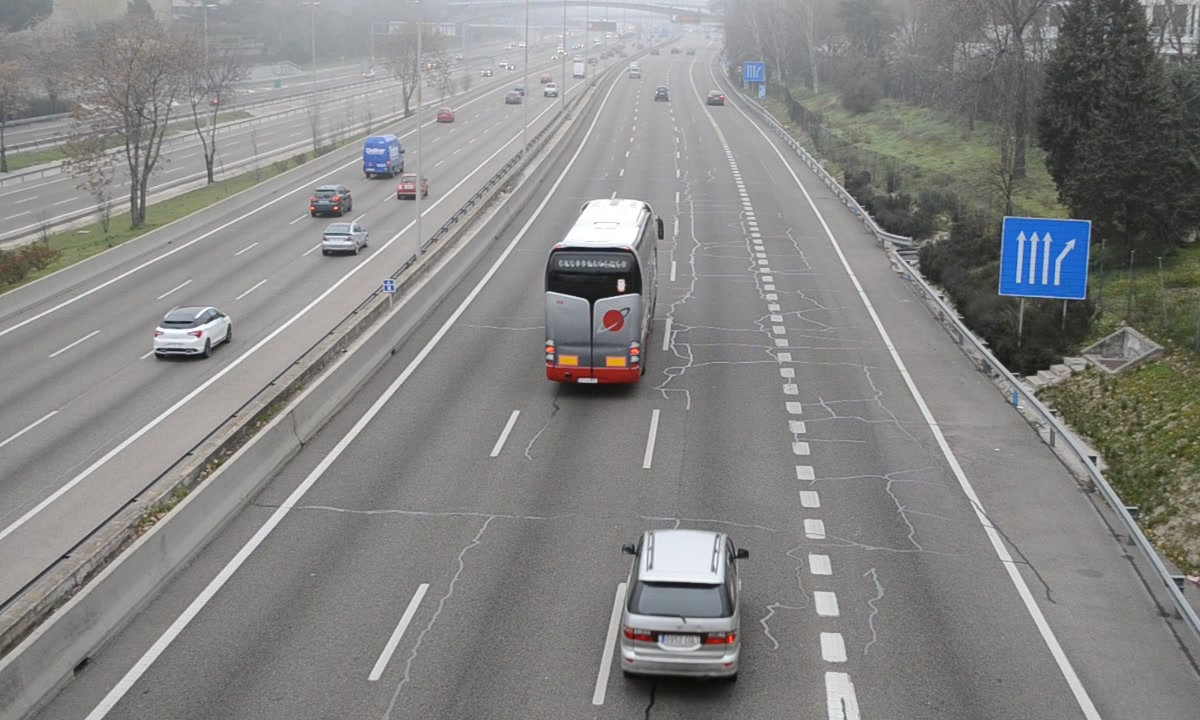bus: (543, 198, 659, 389)
car: (616, 533, 748, 683), (705, 88, 726, 107)
